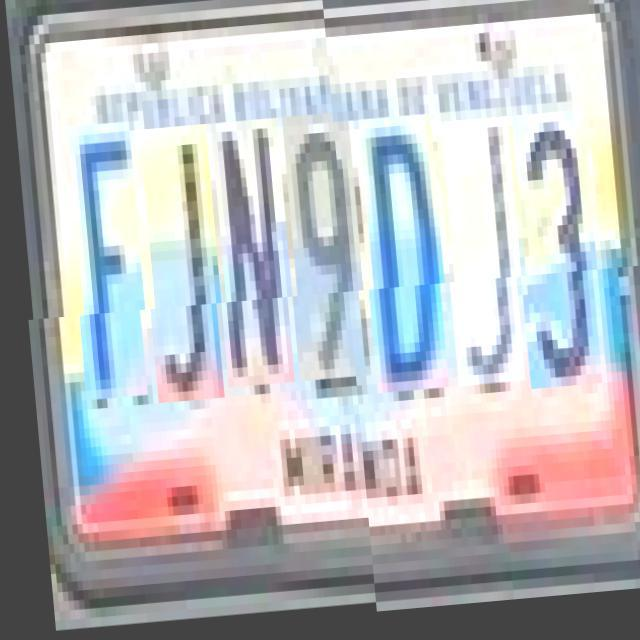3: (509, 120, 599, 398)
9: (280, 127, 364, 396)
D: (356, 122, 446, 400)
F: (66, 133, 146, 410)
J: (138, 137, 222, 415), (438, 126, 522, 394)
N: (209, 132, 293, 400)
